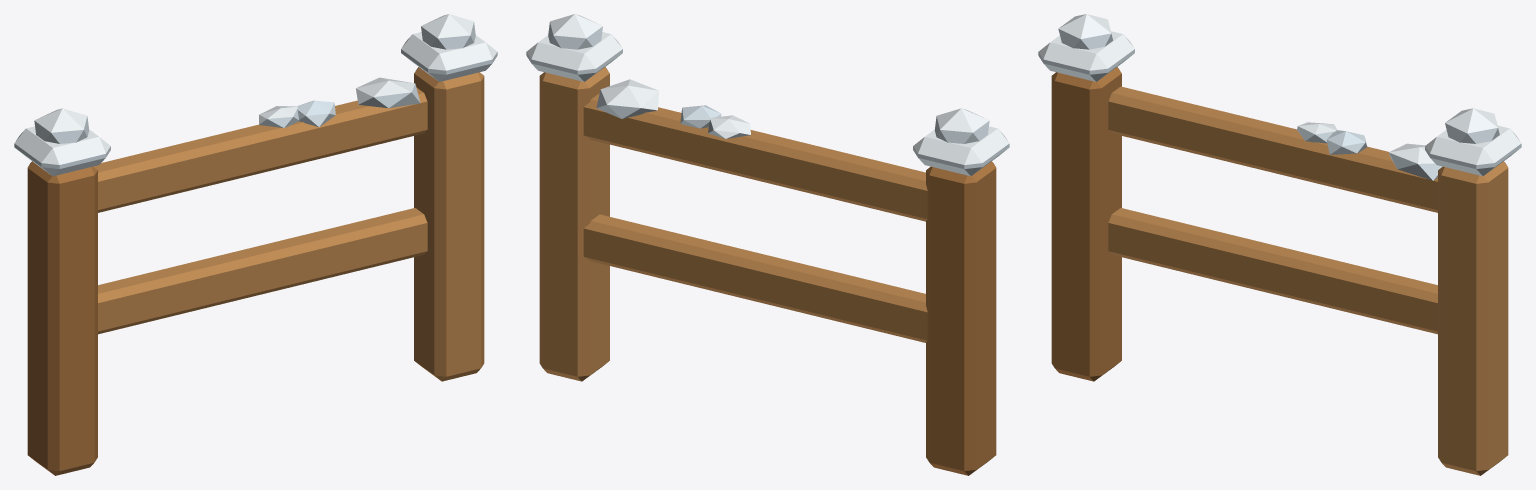
The model's file is snow_fence_1m.glb.
The picture shows the model from 3 angles, left to right: view 1: azimuth 30°, elevation 25°; view 2: azimuth 150°, elevation 25°; view 3: azimuth 330°, elevation 25°; orthographic projection.
Visible parts, largest first — view 1: snow_fence_1m; view 2: snow_fence_1m; view 3: snow_fence_1m.
Boxes of the visible parts, <box> form: snow_fence_1m: <box>14,14,497,475</box>; snow_fence_1m: <box>526,14,1009,475</box>; snow_fence_1m: <box>1038,14,1521,475</box>.
Bounding box in the file's own units: 1.18 × 0.88 × 0.18.
